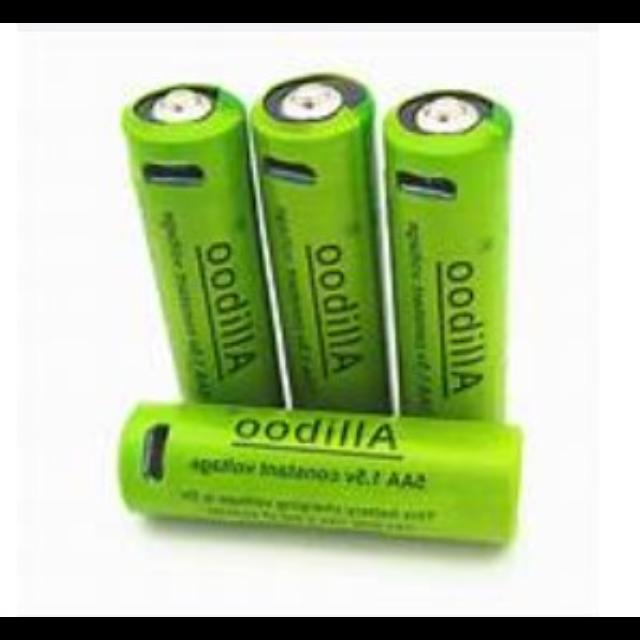Battery: (114, 403, 524, 551)
